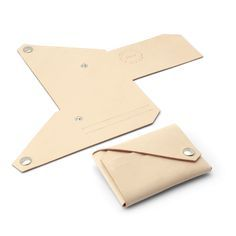cuero: (12, 33, 213, 207)
